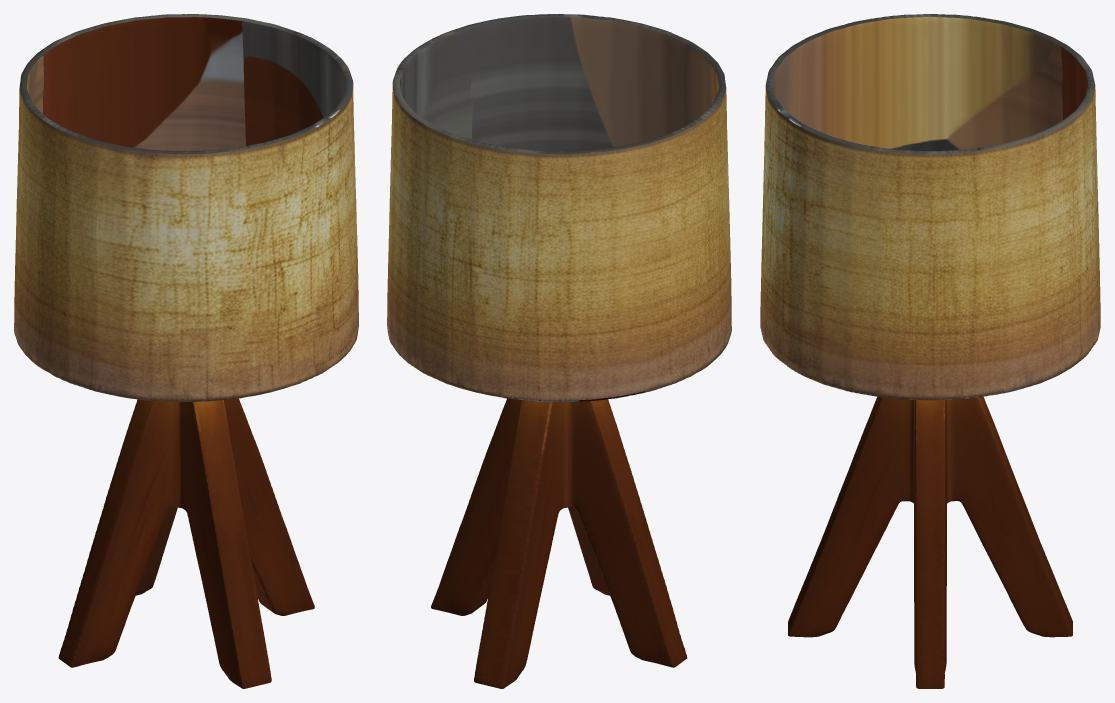
File: lamp__lamp#2.glb
3 views of the same model, side by side, from view 1: azimuth 30°, elevation 25°; view 2: azimuth 150°, elevation 25°; view 3: azimuth 270°, elevation 25° (orthographic).
Parts seen in each view (by area): view 1: tmpb4cjpkpg.ply; view 2: tmpb4cjpkpg.ply; view 3: tmpb4cjpkpg.ply.
Part boxes in pixels (left/top/right/bottom): tmpb4cjpkpg.ply: left=14, top=14, right=358, bottom=688; tmpb4cjpkpg.ply: left=387, top=14, right=731, bottom=688; tmpb4cjpkpg.ply: left=760, top=14, right=1100, bottom=688.
Bounding box in the file's own units: 1.13 × 1.99 × 1.12.
Materials: 1 (1 with a texture image).
